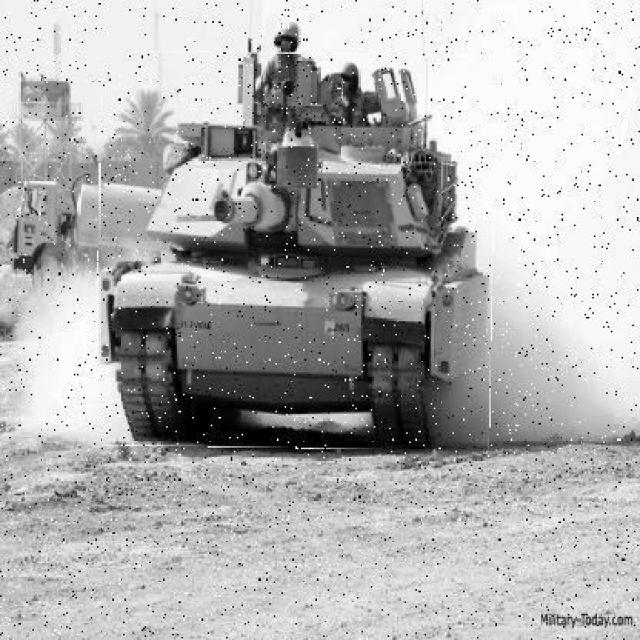Person: (247, 16, 320, 132), (323, 56, 387, 129)
Tank: (98, 54, 495, 451)
